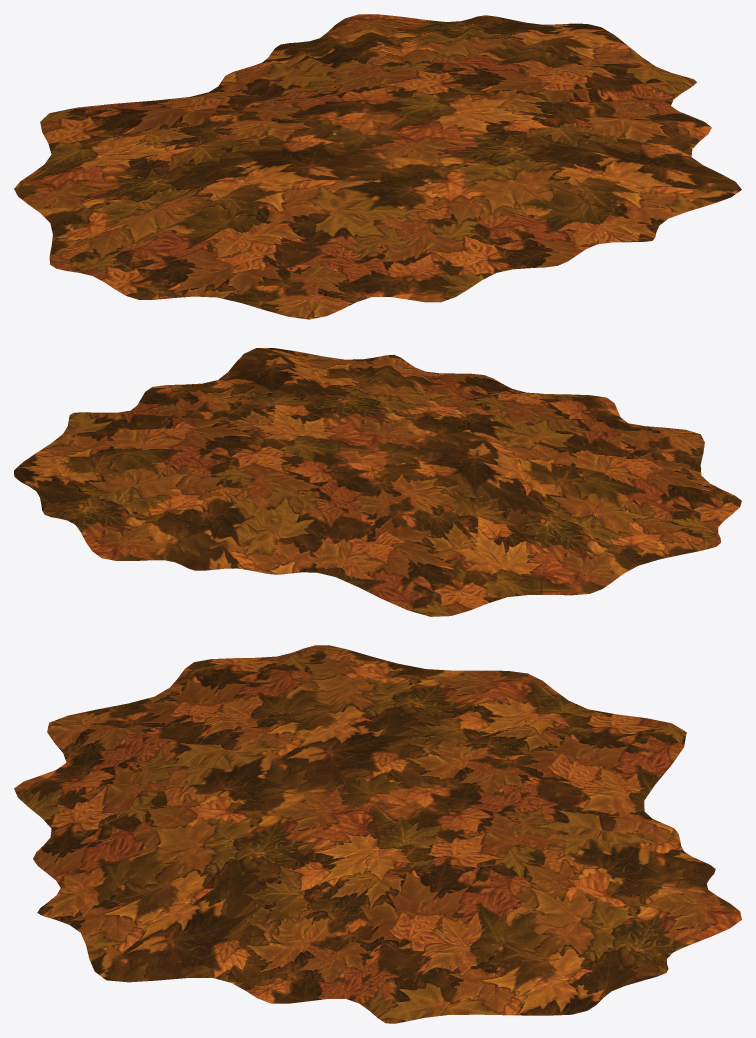
File: Y_LeafPile.fbx
3 renders of one model, top to bottom at view 1: azimuth 30°, elevation 25°; view 2: azimuth 150°, elevation 25°; view 3: azimuth 270°, elevation 25°, orthographic. The views are drawn at different scales.
Visible parts, largest first — view 1: autumn-leaf-background-seamless.008; view 2: autumn-leaf-background-seamless.008; view 3: autumn-leaf-background-seamless.008.
Boxes of the visible parts, <box> form: autumn-leaf-background-seamless.008: <box>14,14,741,319</box>; autumn-leaf-background-seamless.008: <box>14,348,741,616</box>; autumn-leaf-background-seamless.008: <box>14,645,741,1023</box>.
Bounding box in the file's own units: 841 × 42.93 × 683.
